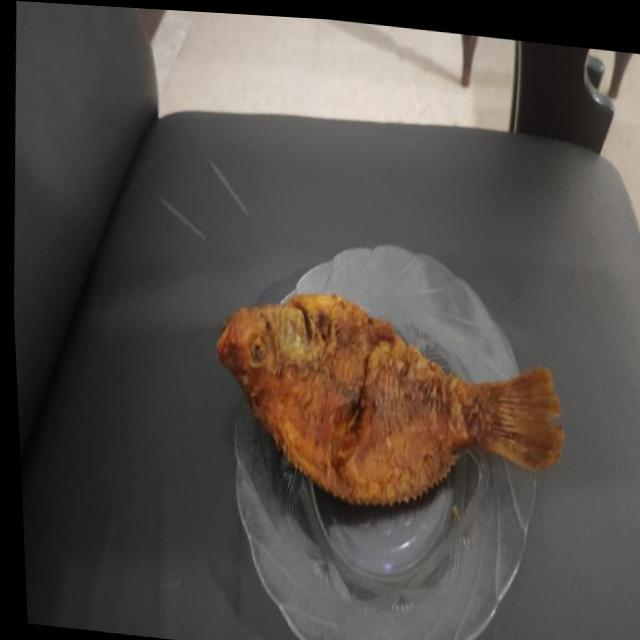ikan_mujair: (217, 294, 564, 505)
